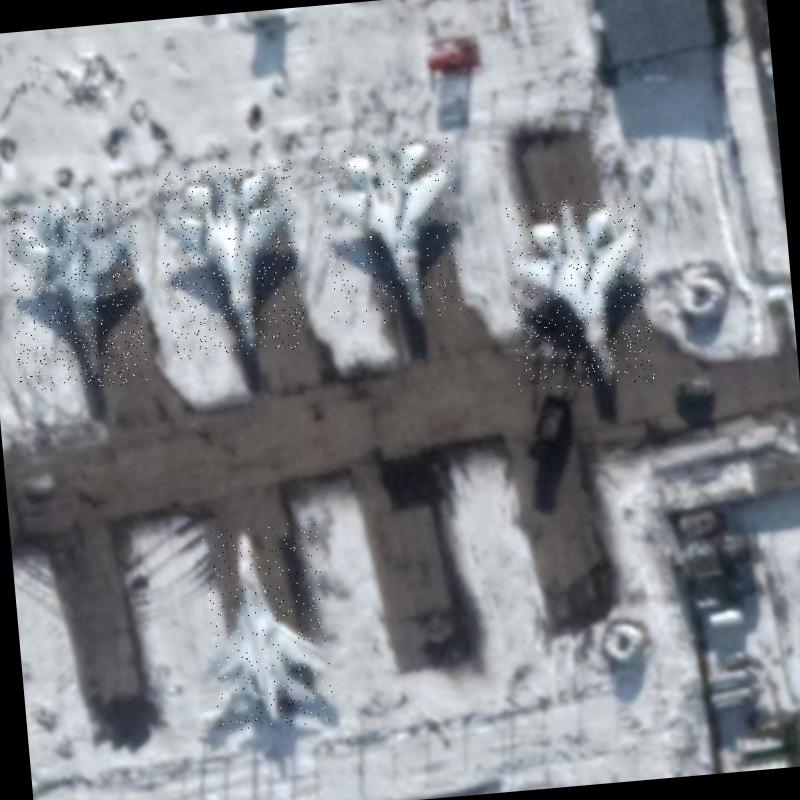A1: (155, 160, 307, 360), (504, 194, 656, 392), (4, 198, 150, 394), (317, 136, 466, 328), (202, 521, 334, 732)
